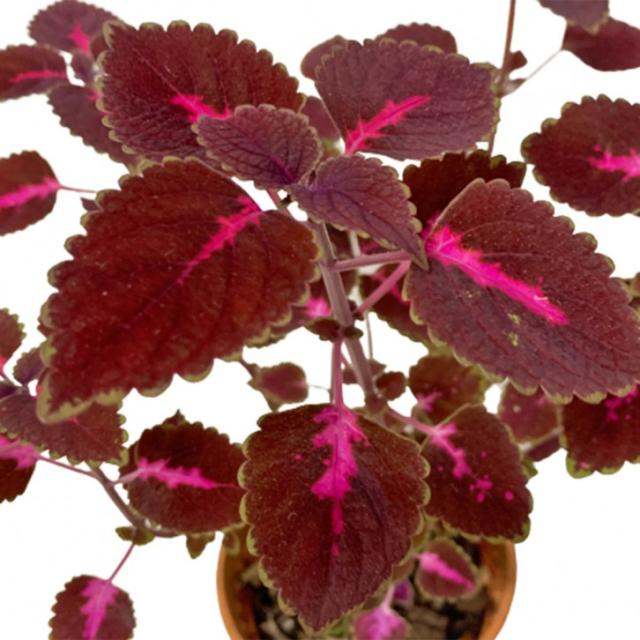Coleus: (6, 2, 639, 510)
